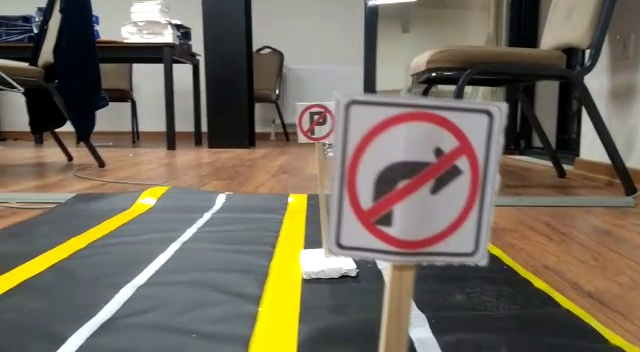park_yapilmaz: (296, 100, 337, 144)
saga_donulmez: (344, 104, 480, 251)
